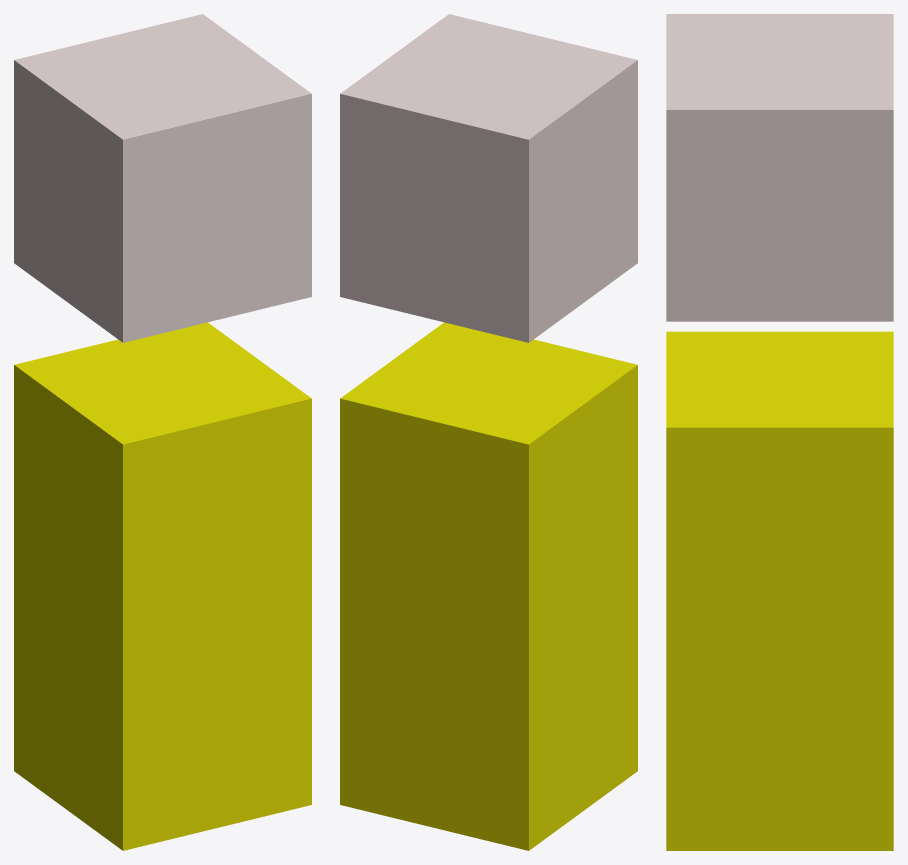
File: IcecreamChildB.fbx
The picture shows the model from 3 angles, left to right: view 1: azimuth 30°, elevation 25°; view 2: azimuth 150°, elevation 25°; view 3: azimuth 270°, elevation 25°; orthographic projection. The views are drawn at different scales.
Parts seen in each view (by area): view 1: IcecreamChildB; view 2: IcecreamChildB; view 3: IcecreamChildB.
Boxes of the visible parts, <box> form: IcecreamChildB: <box>14,14,311,850</box>; IcecreamChildB: <box>340,14,637,850</box>; IcecreamChildB: <box>666,14,893,850</box>.
Bounding box in the file's own units: 25 × 90 × 25.
